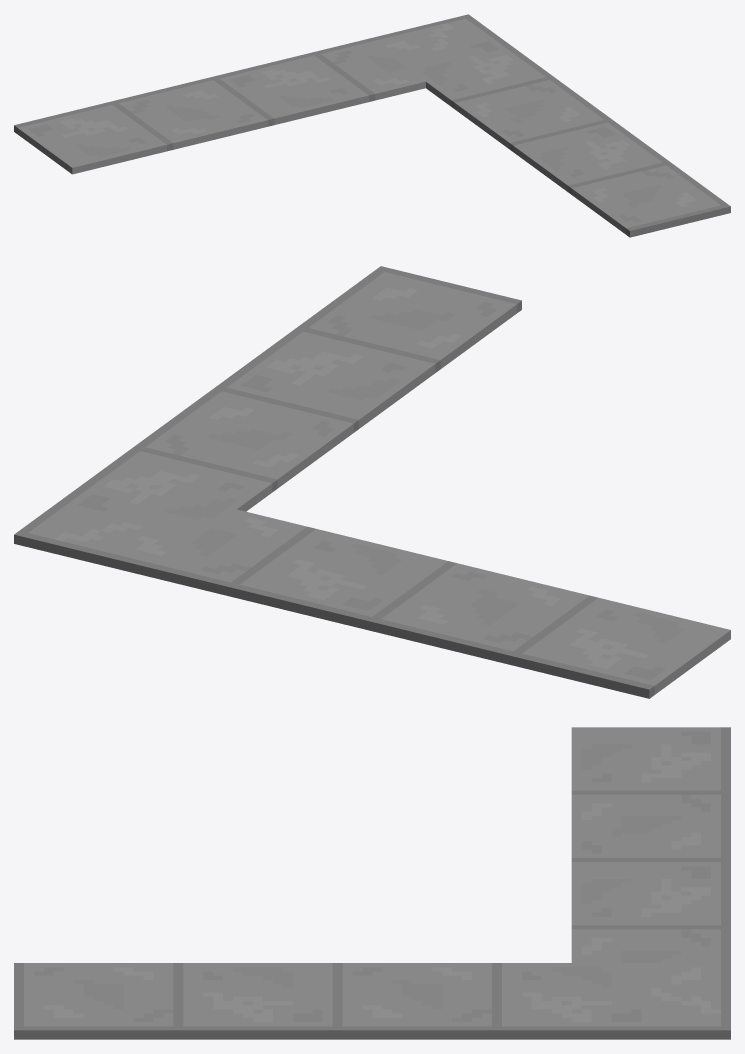
File: sidewalk_corner.gltf
3 views of the same model, one above another, from view 1: azimuth 30°, elevation 25°; view 2: azimuth 150°, elevation 25°; view 3: azimuth 270°, elevation 25° (orthographic). The views are drawn at different scales.
Visible parts, largest first — view 1: Layer.1 (×4); view 2: Layer.1 (×4); view 3: Layer.1 (×4).
Boxes of the visible parts, x1,y1,x2,y2 form: Layer.1 (×4): (14,14,730,237); Layer.1 (×4): (14,266,730,698); Layer.1 (×4): (14,727,730,1039).
Bounding box in the file's own units: 72 × 1 × 72.
Materials: 1 (1 with a texture image).
